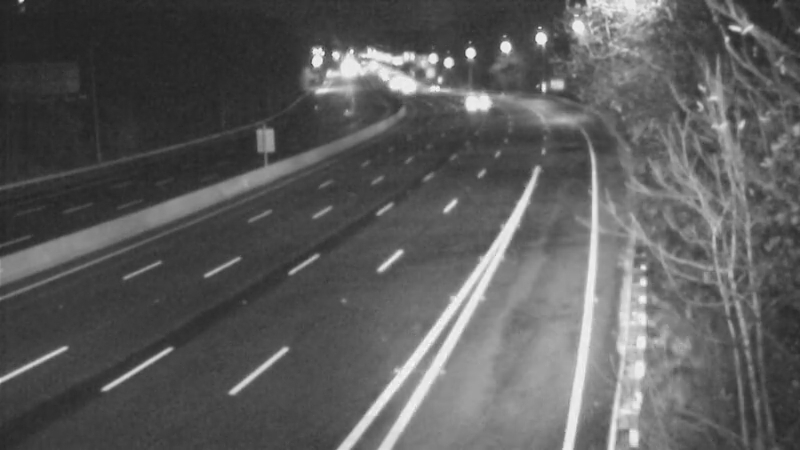vehicle: (408, 64, 458, 114), (449, 73, 499, 123)
